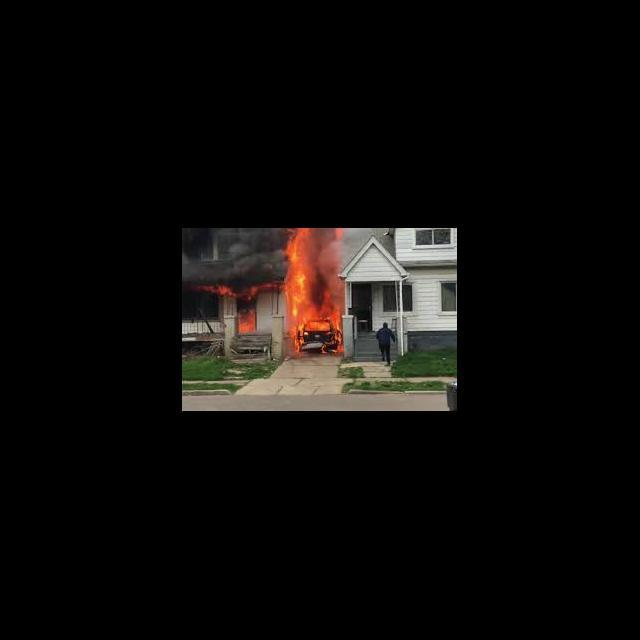Fire: (284, 230, 344, 322), (236, 296, 258, 334), (253, 282, 284, 298), (287, 323, 304, 352), (202, 284, 236, 296), (305, 322, 333, 332), (336, 322, 343, 357)
Smoke: (184, 228, 284, 282)
